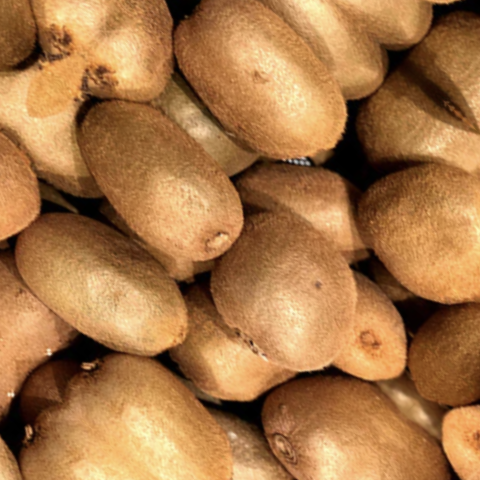kiwi: (159, 182, 399, 422), (37, 64, 277, 296), (0, 173, 228, 411), (133, 0, 381, 199), (322, 110, 480, 347), (61, 322, 273, 480)
